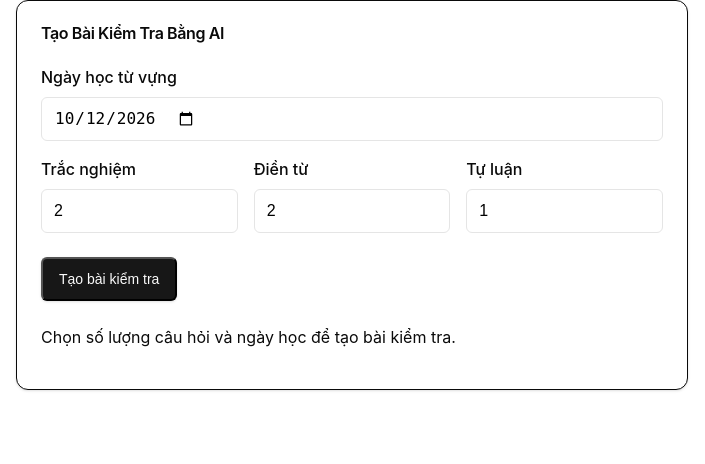
QuizBuilder › handles API errors correctly
Click the button "Tạo bài kiểm tra" at (109,279), box left=41, top=257, right=177, bottom=301
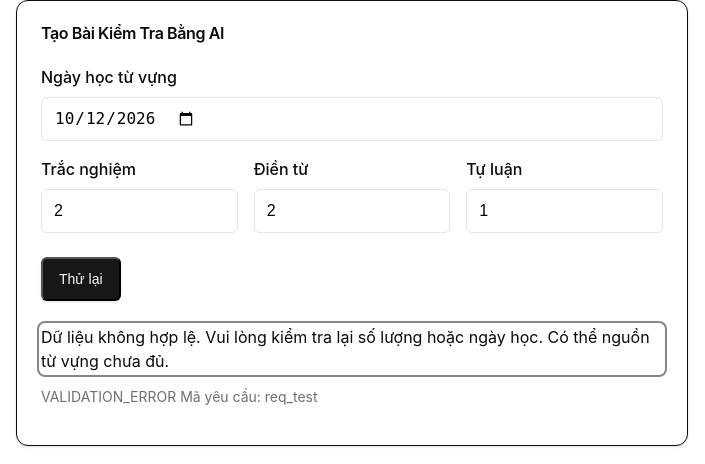
Now the text "Dữ liệu không hợp lệ. Vui lòng kiểm tra lại số lượng hoặc ngày học. Có thể nguồn từ vựng chưa đủ." is shown, box left=41, top=327, right=650, bottom=371
